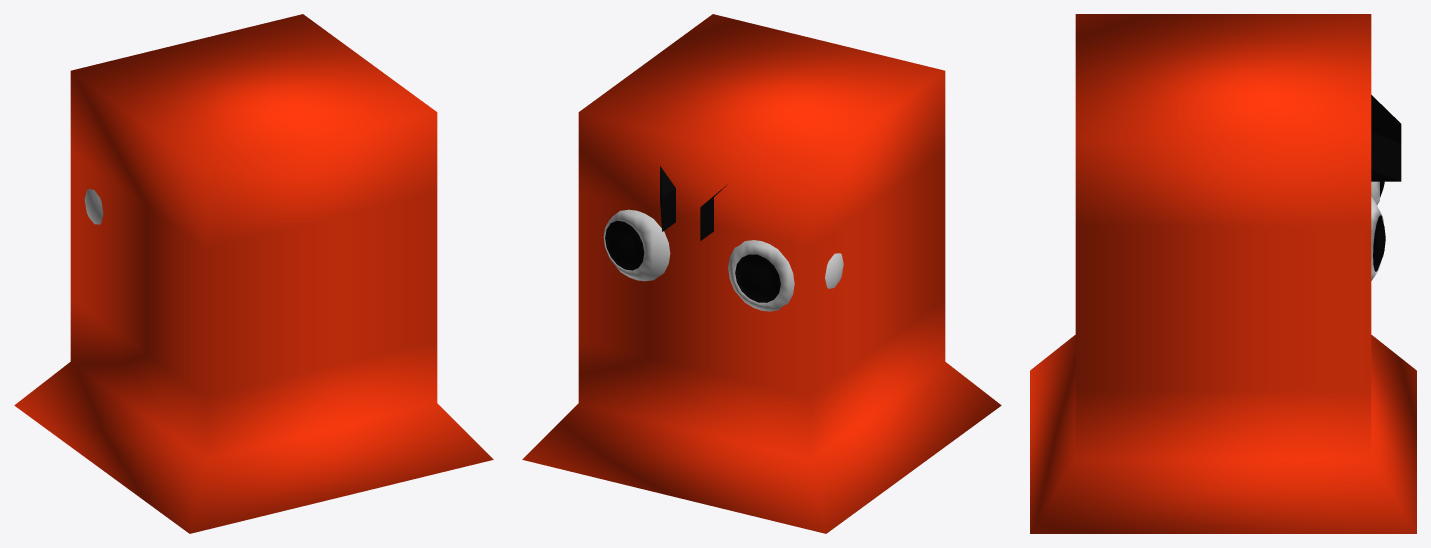
File: player.glb
The picture shows the model from 3 angles, left to right: view 1: azimuth 30°, elevation 25°; view 2: azimuth 150°, elevation 25°; view 3: azimuth 270°, elevation 25°; orthographic projection. The views are drawn at different scales.
Visible parts, largest first — view 1: Cube; view 2: Cube; view 3: Cube.
Boxes of the visible parts, x1=… form: Cube: x1=14, y1=14, x2=493, y2=533; Cube: x1=522, y1=14, x2=1001, y2=533; Cube: x1=1030, y1=14, x2=1416, y2=533.
Size of the model in its own units: 2.62 by 2.81 by 2.62.
